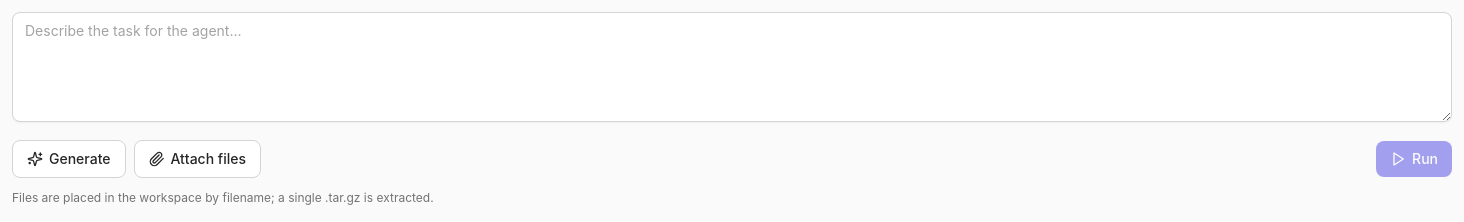
GenerateTaskButton › is mounted in RunForm and fills its task box
The width and height of the screenshot is (1464, 222).
What coordinates should you click on to do the following:
click the button with aria-label "Generate a sample task"
I would click on:
 (69, 159)
Its box is [12,140,126,178].
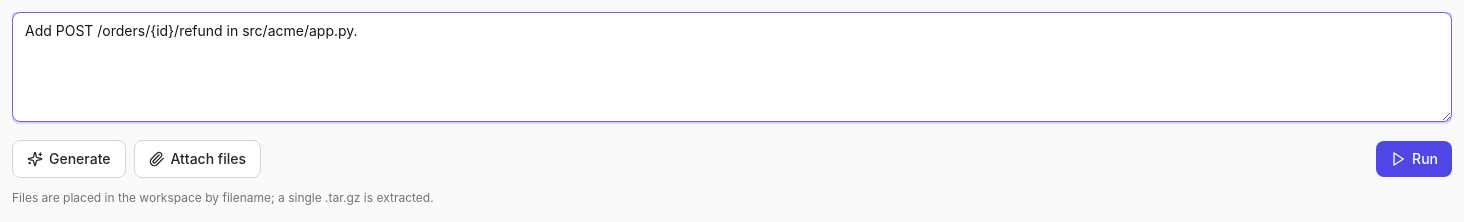
Now the text box named "task" holds "Add POST /orders/{id}/refund in src/acme/app.py.", box [12,12,1452,122]
Now the button "Run" is enabled, box [1376,141,1452,177]
